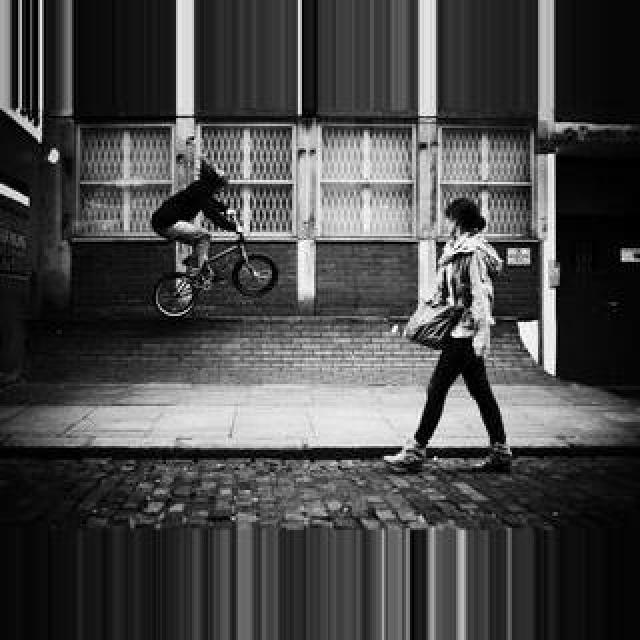MC-Bike: (384, 200, 512, 474), (150, 160, 238, 294)
Person: (152, 227, 280, 317)
